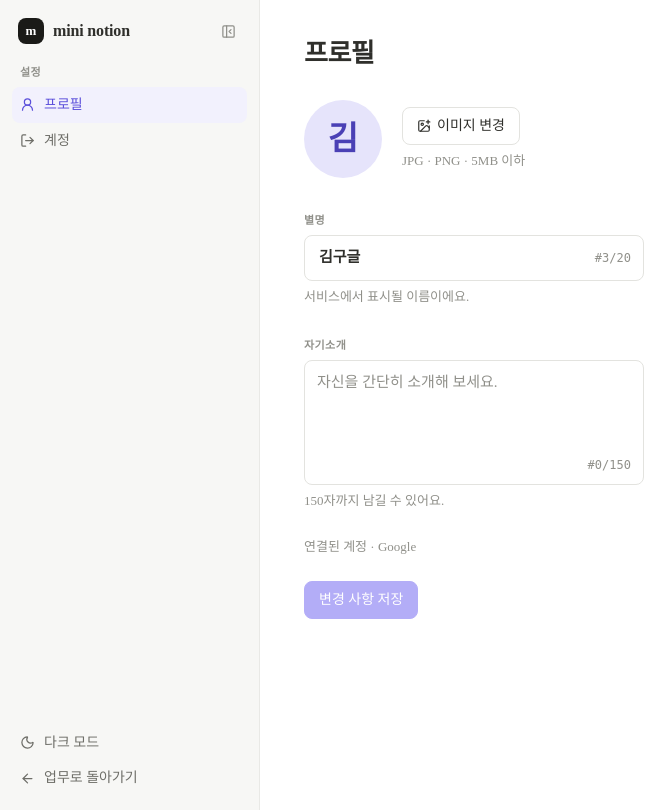
Test: 자기소개 등록·조회 (US1) › 자기소개를 저장하면 trim된 값이 upsert되고 성공 안내가 보인다 (FR-006·010·011)
The image size is (664, 810).
Expected: the field named "별명" holds "김구글", [317,245,585,271]
Type "  반가워요. 포카리입니다.  " into the text box named "자기소개" at (474, 408), box [317,370,631,446]
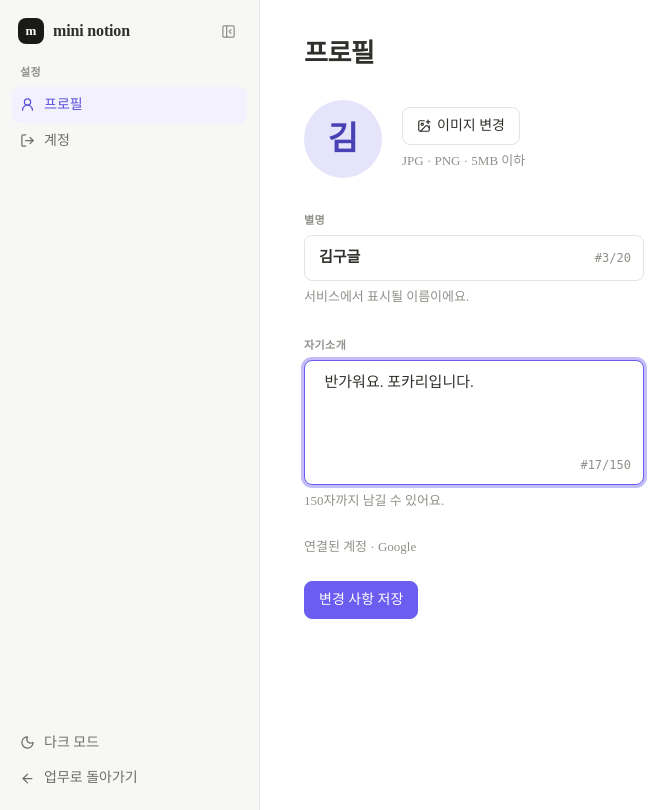
Click the button "변경 사항 저장" at (361, 600), box [304,581,418,619]
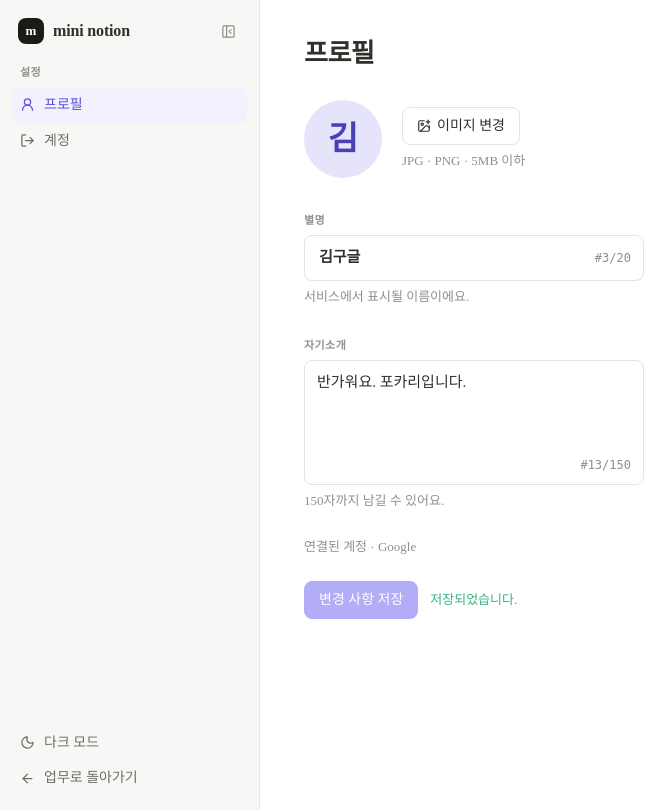
Expected: the text "저장되었습니다." is shown, [430,590,517,610]
